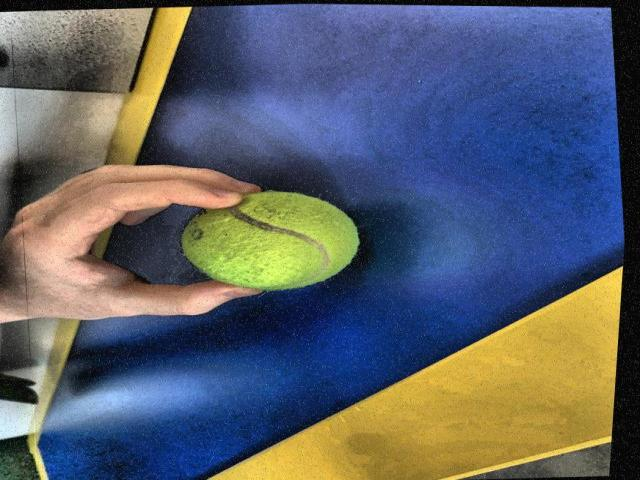tennis-ball: (182, 191, 360, 290)
